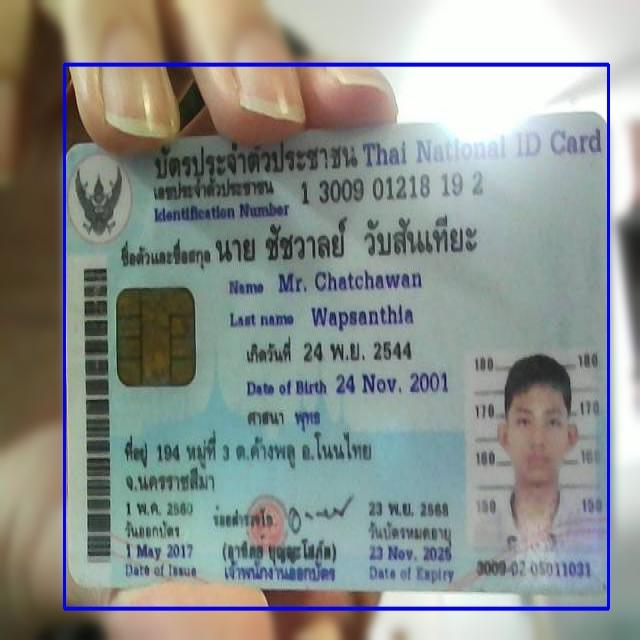Address_th: (119, 427, 378, 497)
Date_of_Birth: (332, 366, 452, 403)
Date_of_Expiry: (367, 542, 456, 568)
Date_of_Issue: (123, 539, 199, 564)
First_Name: (275, 266, 427, 296)
ID_Number: (297, 171, 490, 206)
Image: (466, 350, 602, 553)
Last_Name: (307, 300, 420, 336)
Thai_Name: (214, 216, 480, 266)
